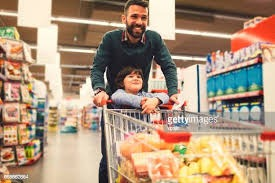with_basket: (104, 100, 274, 183)
without_mask: (122, 1, 149, 37)
